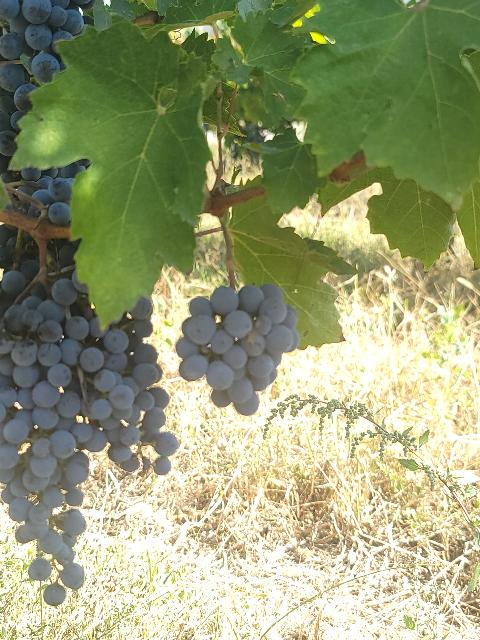grapes: (0, 270, 105, 605), (60, 299, 179, 474), (176, 284, 300, 415)
